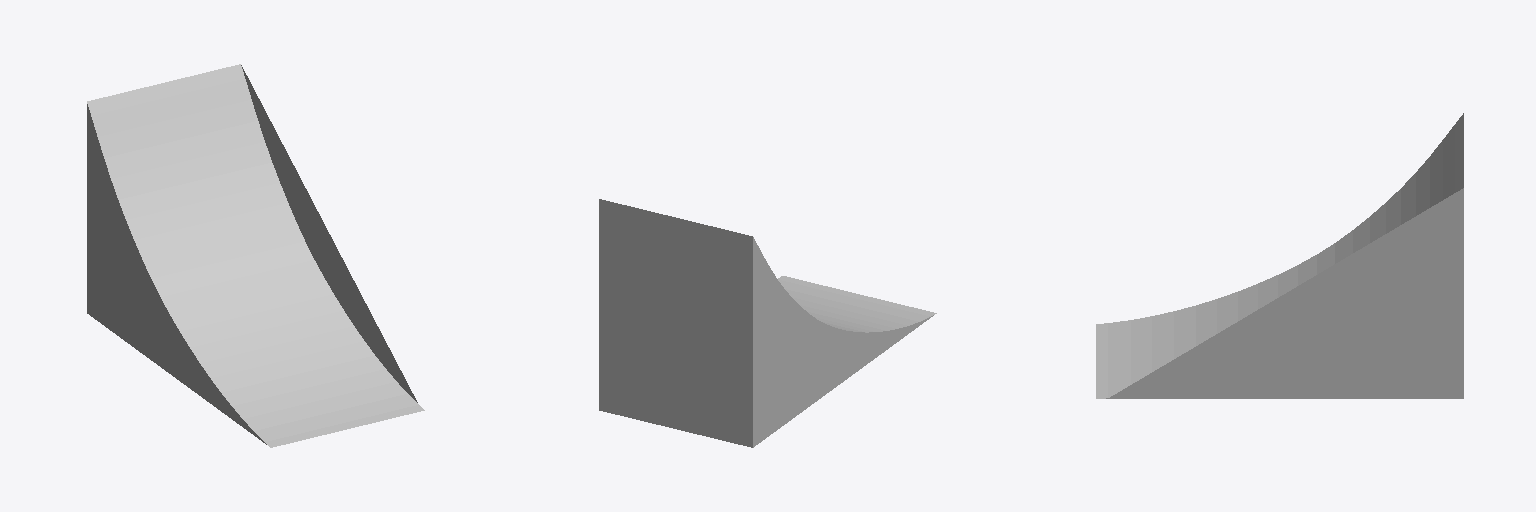
File: Rampa_A1-1.obj
3 renders of one model, left to right at view 1: azimuth 30°, elevation 25°; view 2: azimuth 150°, elevation 25°; view 3: azimuth 270°, elevation 25°, orthographic.
Visible parts, largest first — view 1: Rampa_A1-1_Cube.002; view 2: Rampa_A1-1_Cube.002; view 3: Rampa_A1-1_Cube.002.
Part boxes in pixels (x1,y1,x2,y2): Rampa_A1-1_Cube.002: (87,64,424,447); Rampa_A1-1_Cube.002: (599,199,936,447); Rampa_A1-1_Cube.002: (1096,113,1463,398).
Bounding box in the file's own units: 2 × 2.63 × 4.14.